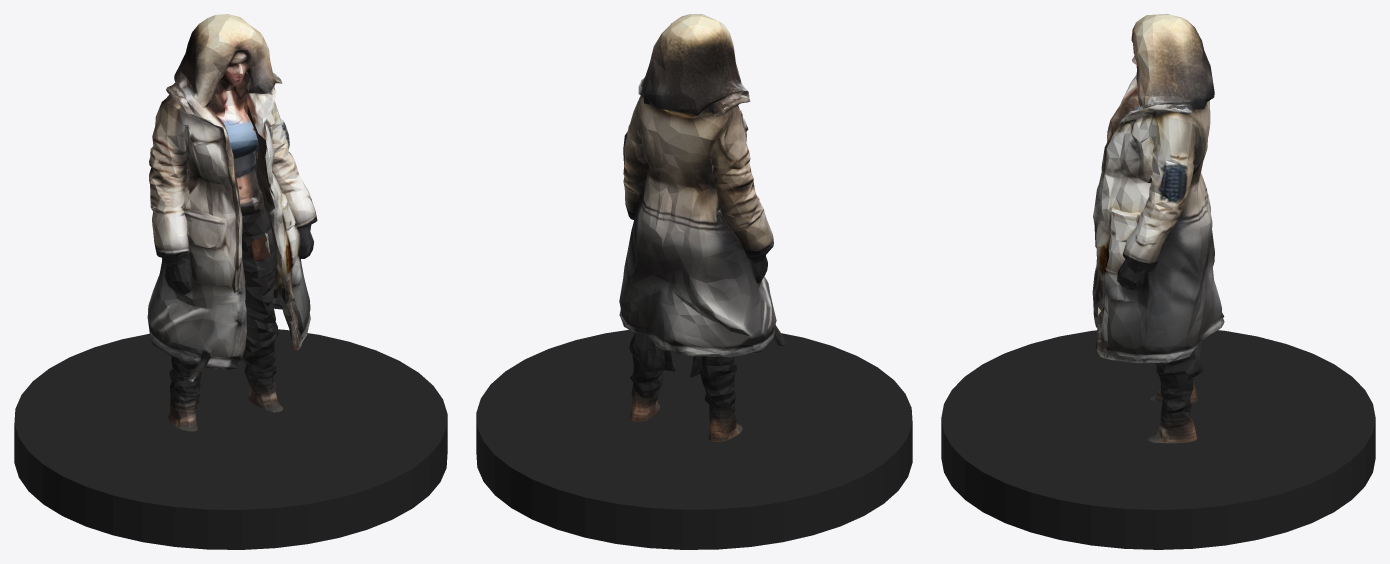
Rendered from ashley-ross.glb.
The picture shows the model from 3 angles, left to right: view 1: azimuth 30°, elevation 25°; view 2: azimuth 150°, elevation 25°; view 3: azimuth 270°, elevation 25°; orthographic projection.
Visible parts, largest first — view 1: base, figure; view 2: base, figure; view 3: base, figure.
Boxes of the visible parts, x1,y1,x2,y2 form: base: (14, 329, 447, 549); figure: (147, 14, 317, 431); base: (476, 330, 912, 549); figure: (619, 14, 786, 441); base: (941, 330, 1375, 549); figure: (1092, 14, 1224, 443).
Size of the model in its own units: 1.18 by 1.32 by 1.18.
Materials: 2 (1 with a texture image).
